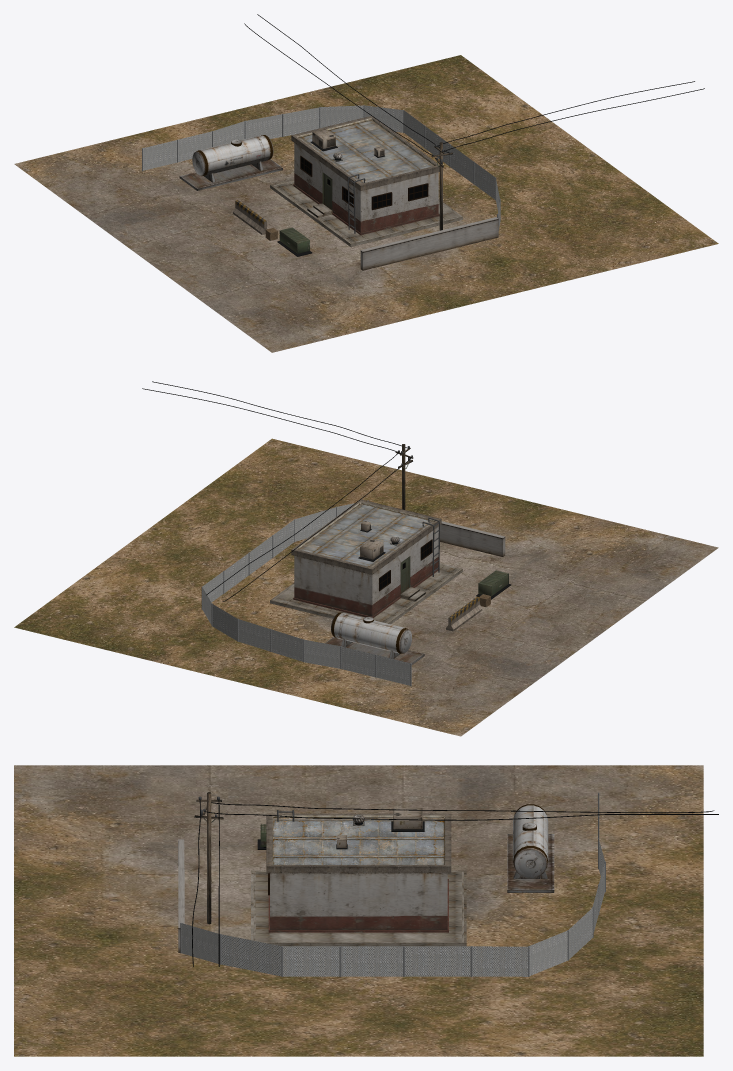
The model's file is utility_building.glb.
3 views of the same model, one above another, from view 1: azimuth 30°, elevation 25°; view 2: azimuth 150°, elevation 25°; view 3: azimuth 270°, elevation 25° (orthographic). The views are drawn at different scales.
Parts seen in each view (by area): view 1: all_connected_base; view 2: all_connected_base; view 3: all_connected_base.
Boxes of the visible parts, x1,y1,x2,y2 form: all_connected_base: [14, 14, 718, 352]; all_connected_base: [14, 381, 718, 736]; all_connected_base: [14, 765, 718, 1056].
Size of the model in its own units: 38.61 by 7.3 by 35.29.
26 materials, 18 textured.
